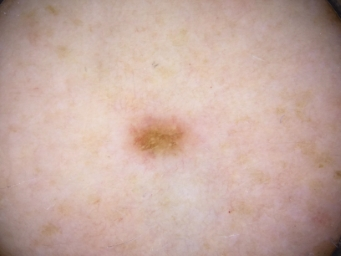melanoma: (135, 130, 184, 159)
